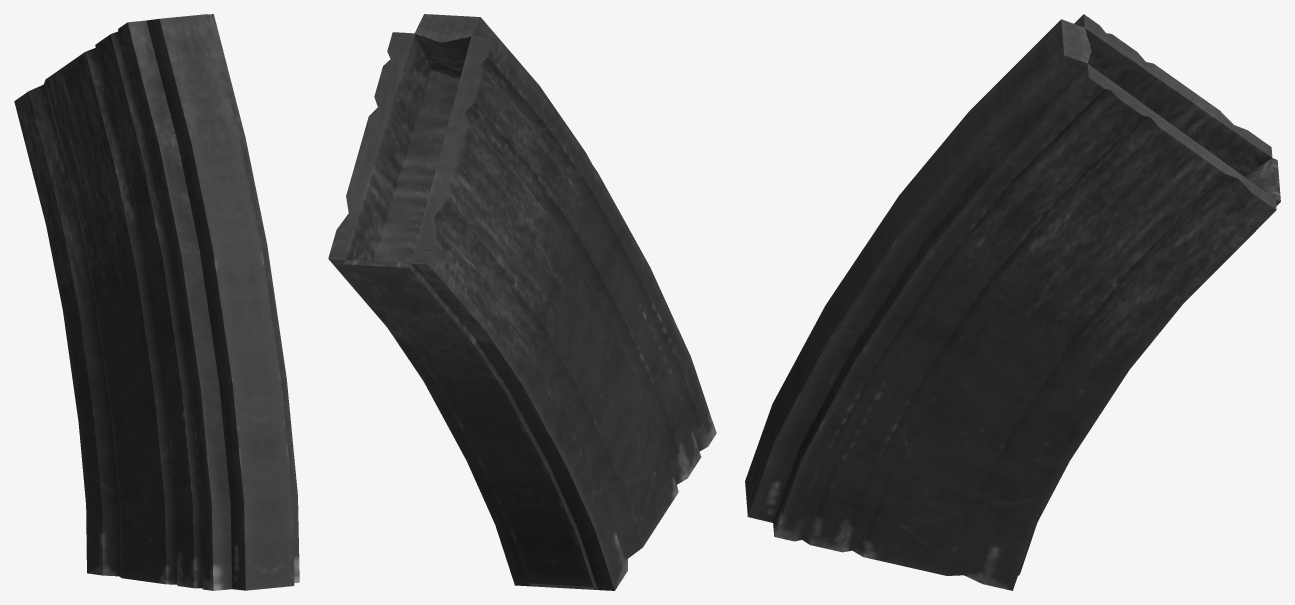
File: Ammo556mmPickup.fbx
3 renders of one model, left to right at view 1: azimuth 30°, elevation 25°; view 2: azimuth 150°, elevation 25°; view 3: azimuth 270°, elevation 25°, orthographic. The views are drawn at different scales.
Visible parts, largest first — view 1: Dropped556; view 2: Dropped556; view 3: Dropped556.
Part boxes in pixels (x1,y1,x2,y2): Dropped556: (14,14,299,590); Dropped556: (328,14,716,590); Dropped556: (745,14,1280,590).
Bounding box in the file's own units: 0.0916 × 0.2822 × 0.2378.
Materials: 1 (1 with a texture image).
